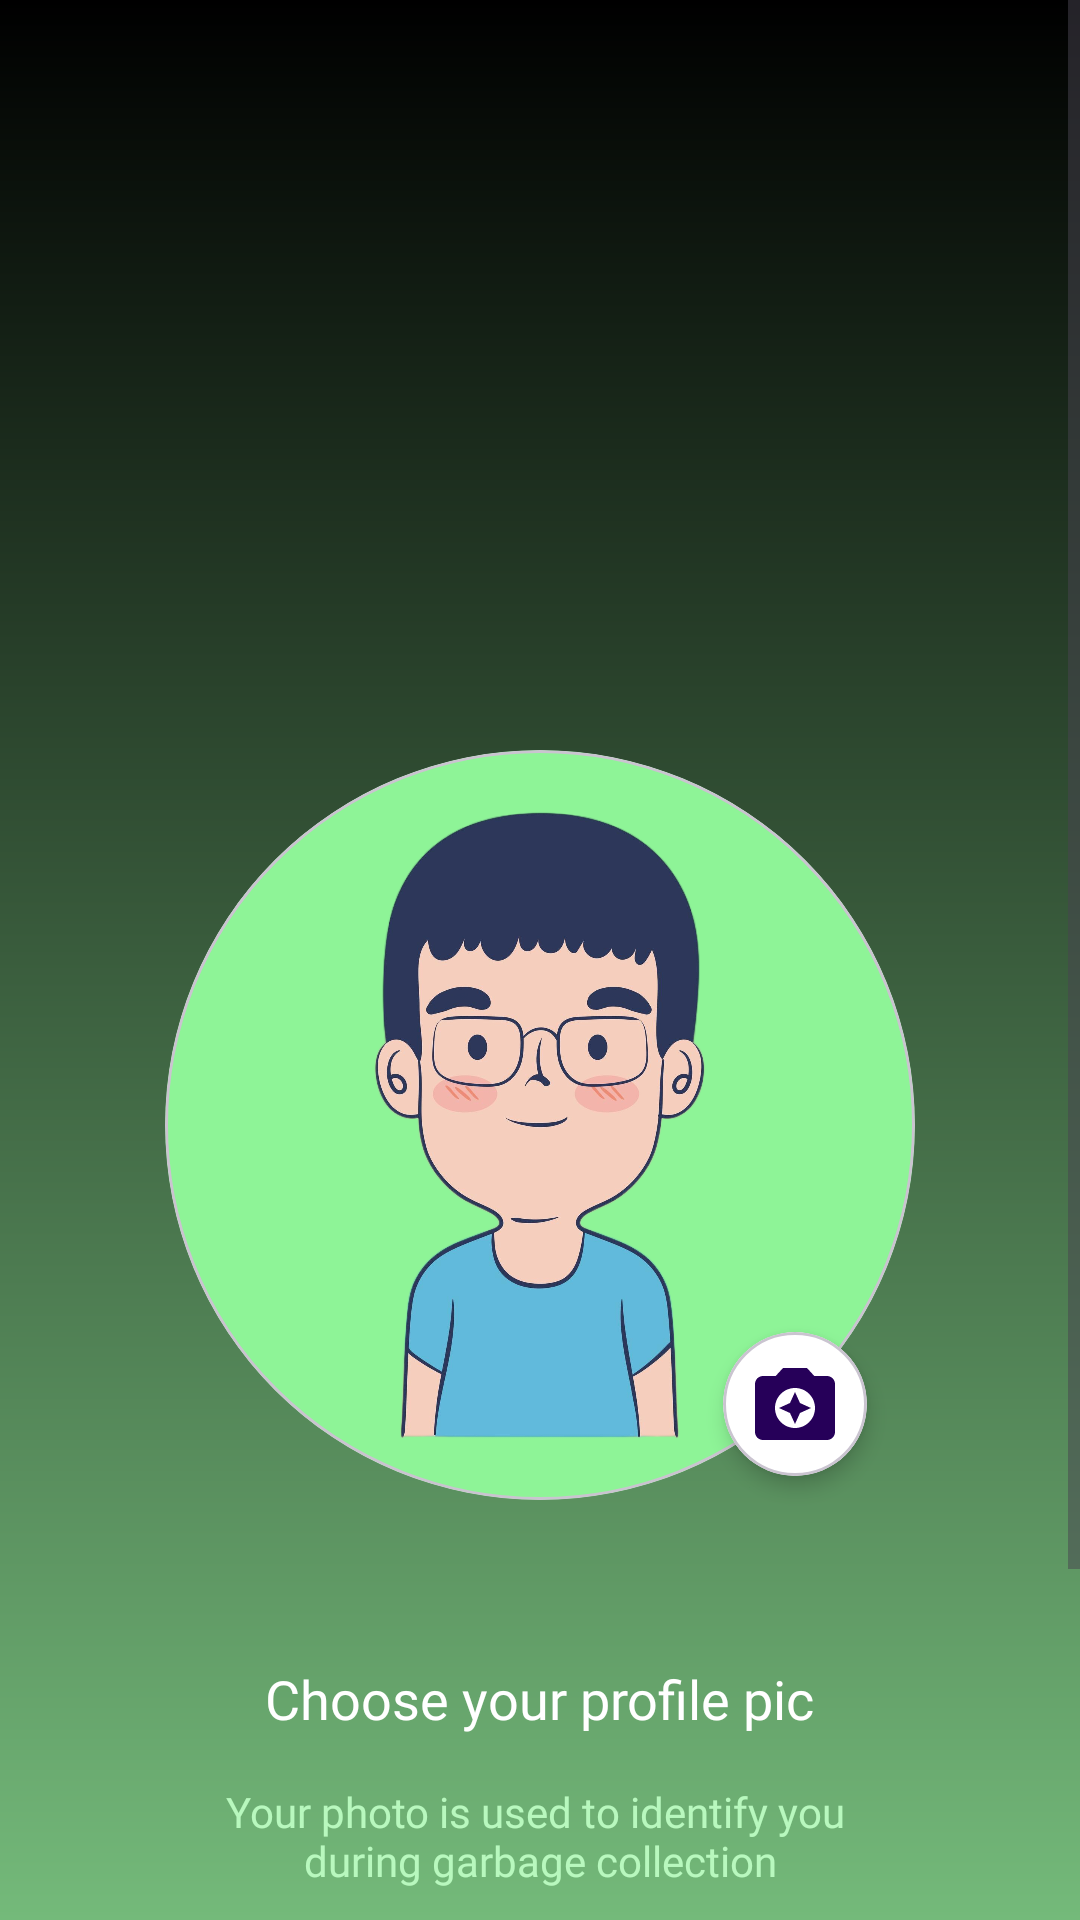

Locate icon controls on the screen. Image size 1080*1920, boxes as region(x1, y1, x2, y2).
set avater button: region(755, 1368, 835, 1440)
